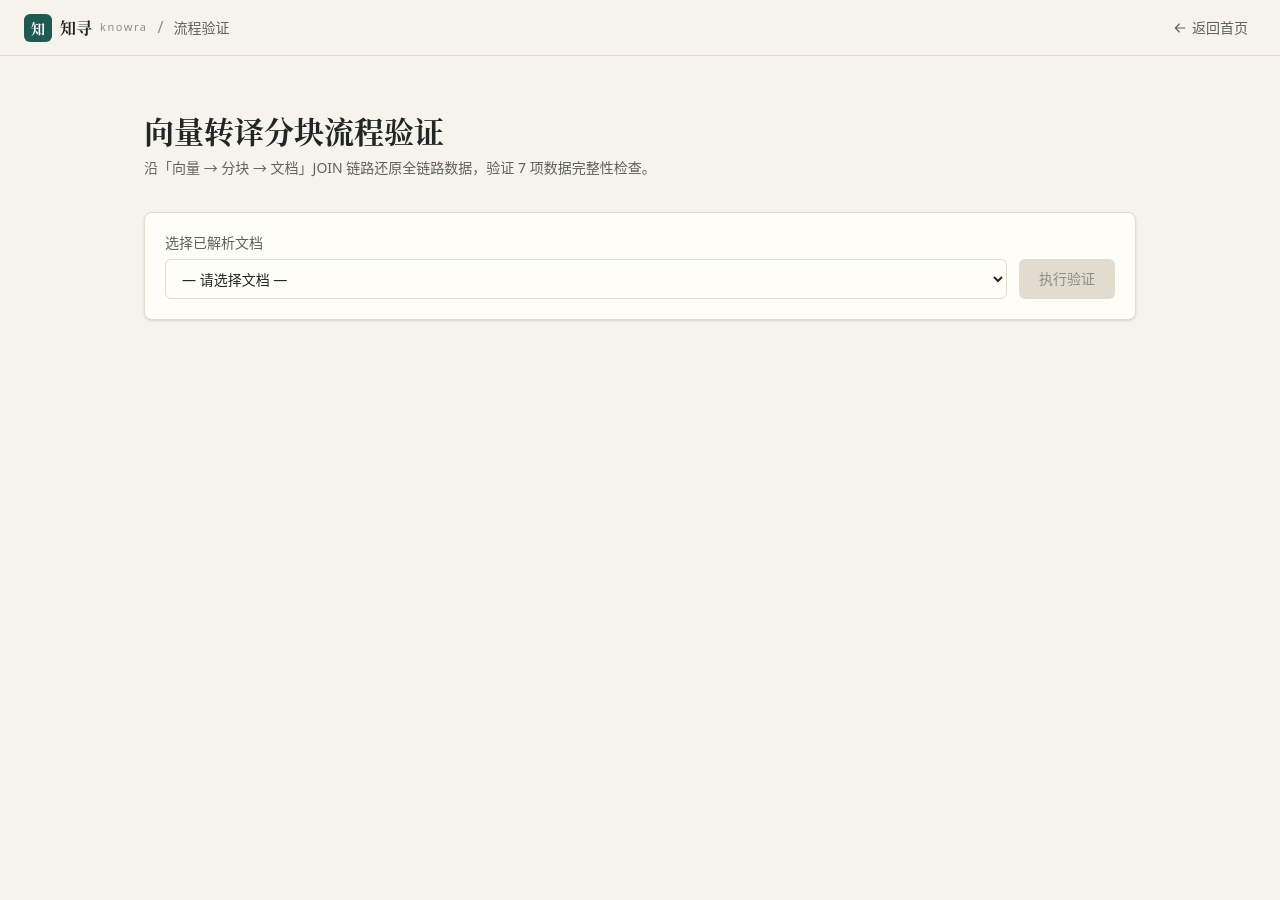
Test: VerificationView › 成功响应渲染 › 验证成功后渲染统计卡片
Select "测试文档 1.pdf (5 段)" in the dropdown with test id "document-select" at [586, 279], box [165,259,1007,299]
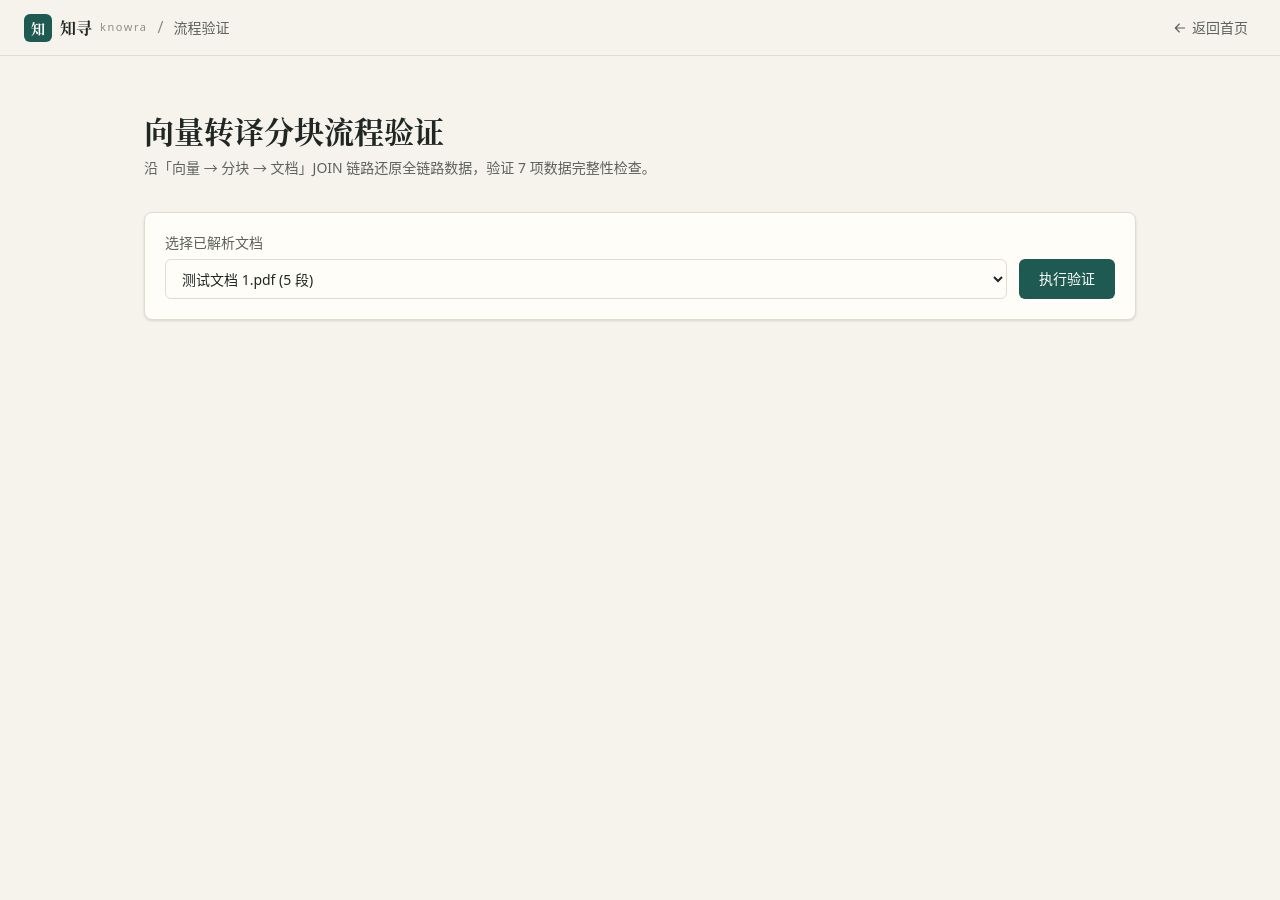
Click the button with test id "verify-button" at [1067, 279], box [1019,259,1115,299]
(page scrolled)
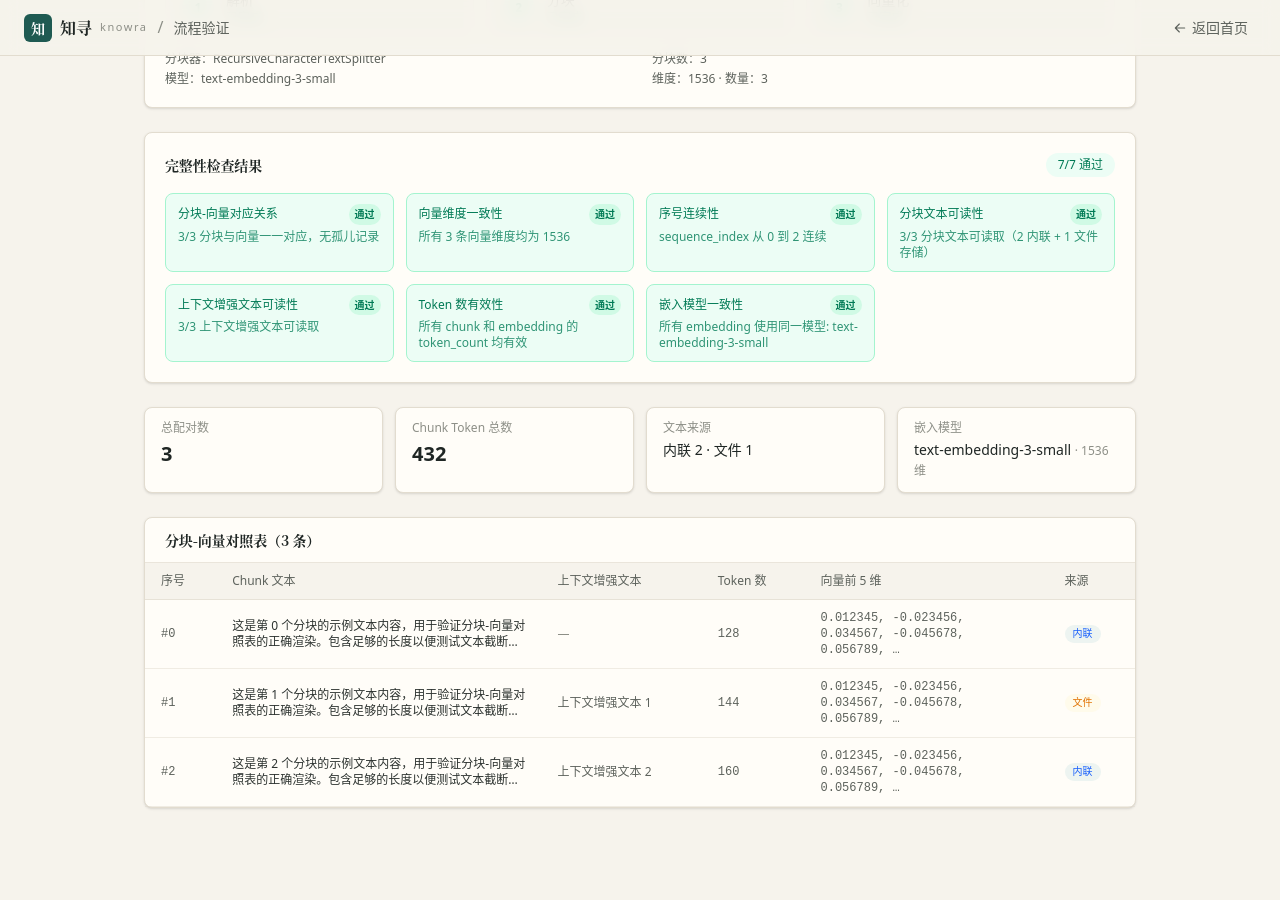
expect the element with test id "verification-stats" is shown: met, box [144,407,1136,493]
expect the element with test id "verification-stats" shows "3": met, box [161,440,172,467]
expect the element with test id "verification-stats" shows "text-embedding-3-small": met, box [914,440,1075,459]
